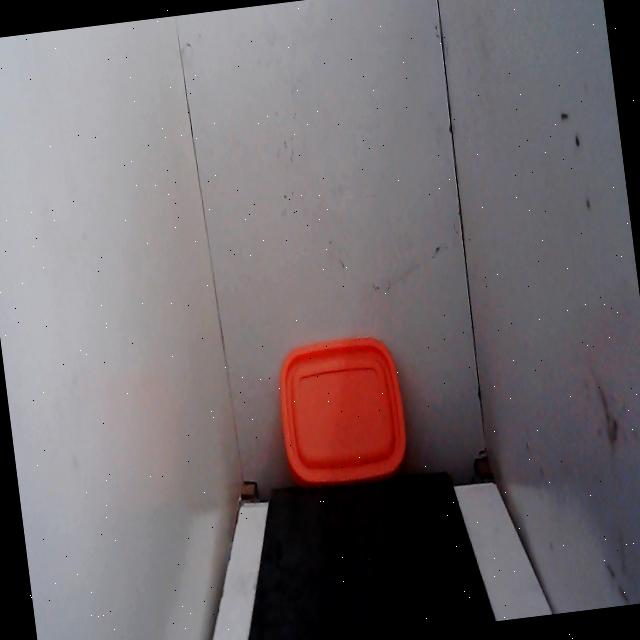plastico: (262, 316, 419, 508)
